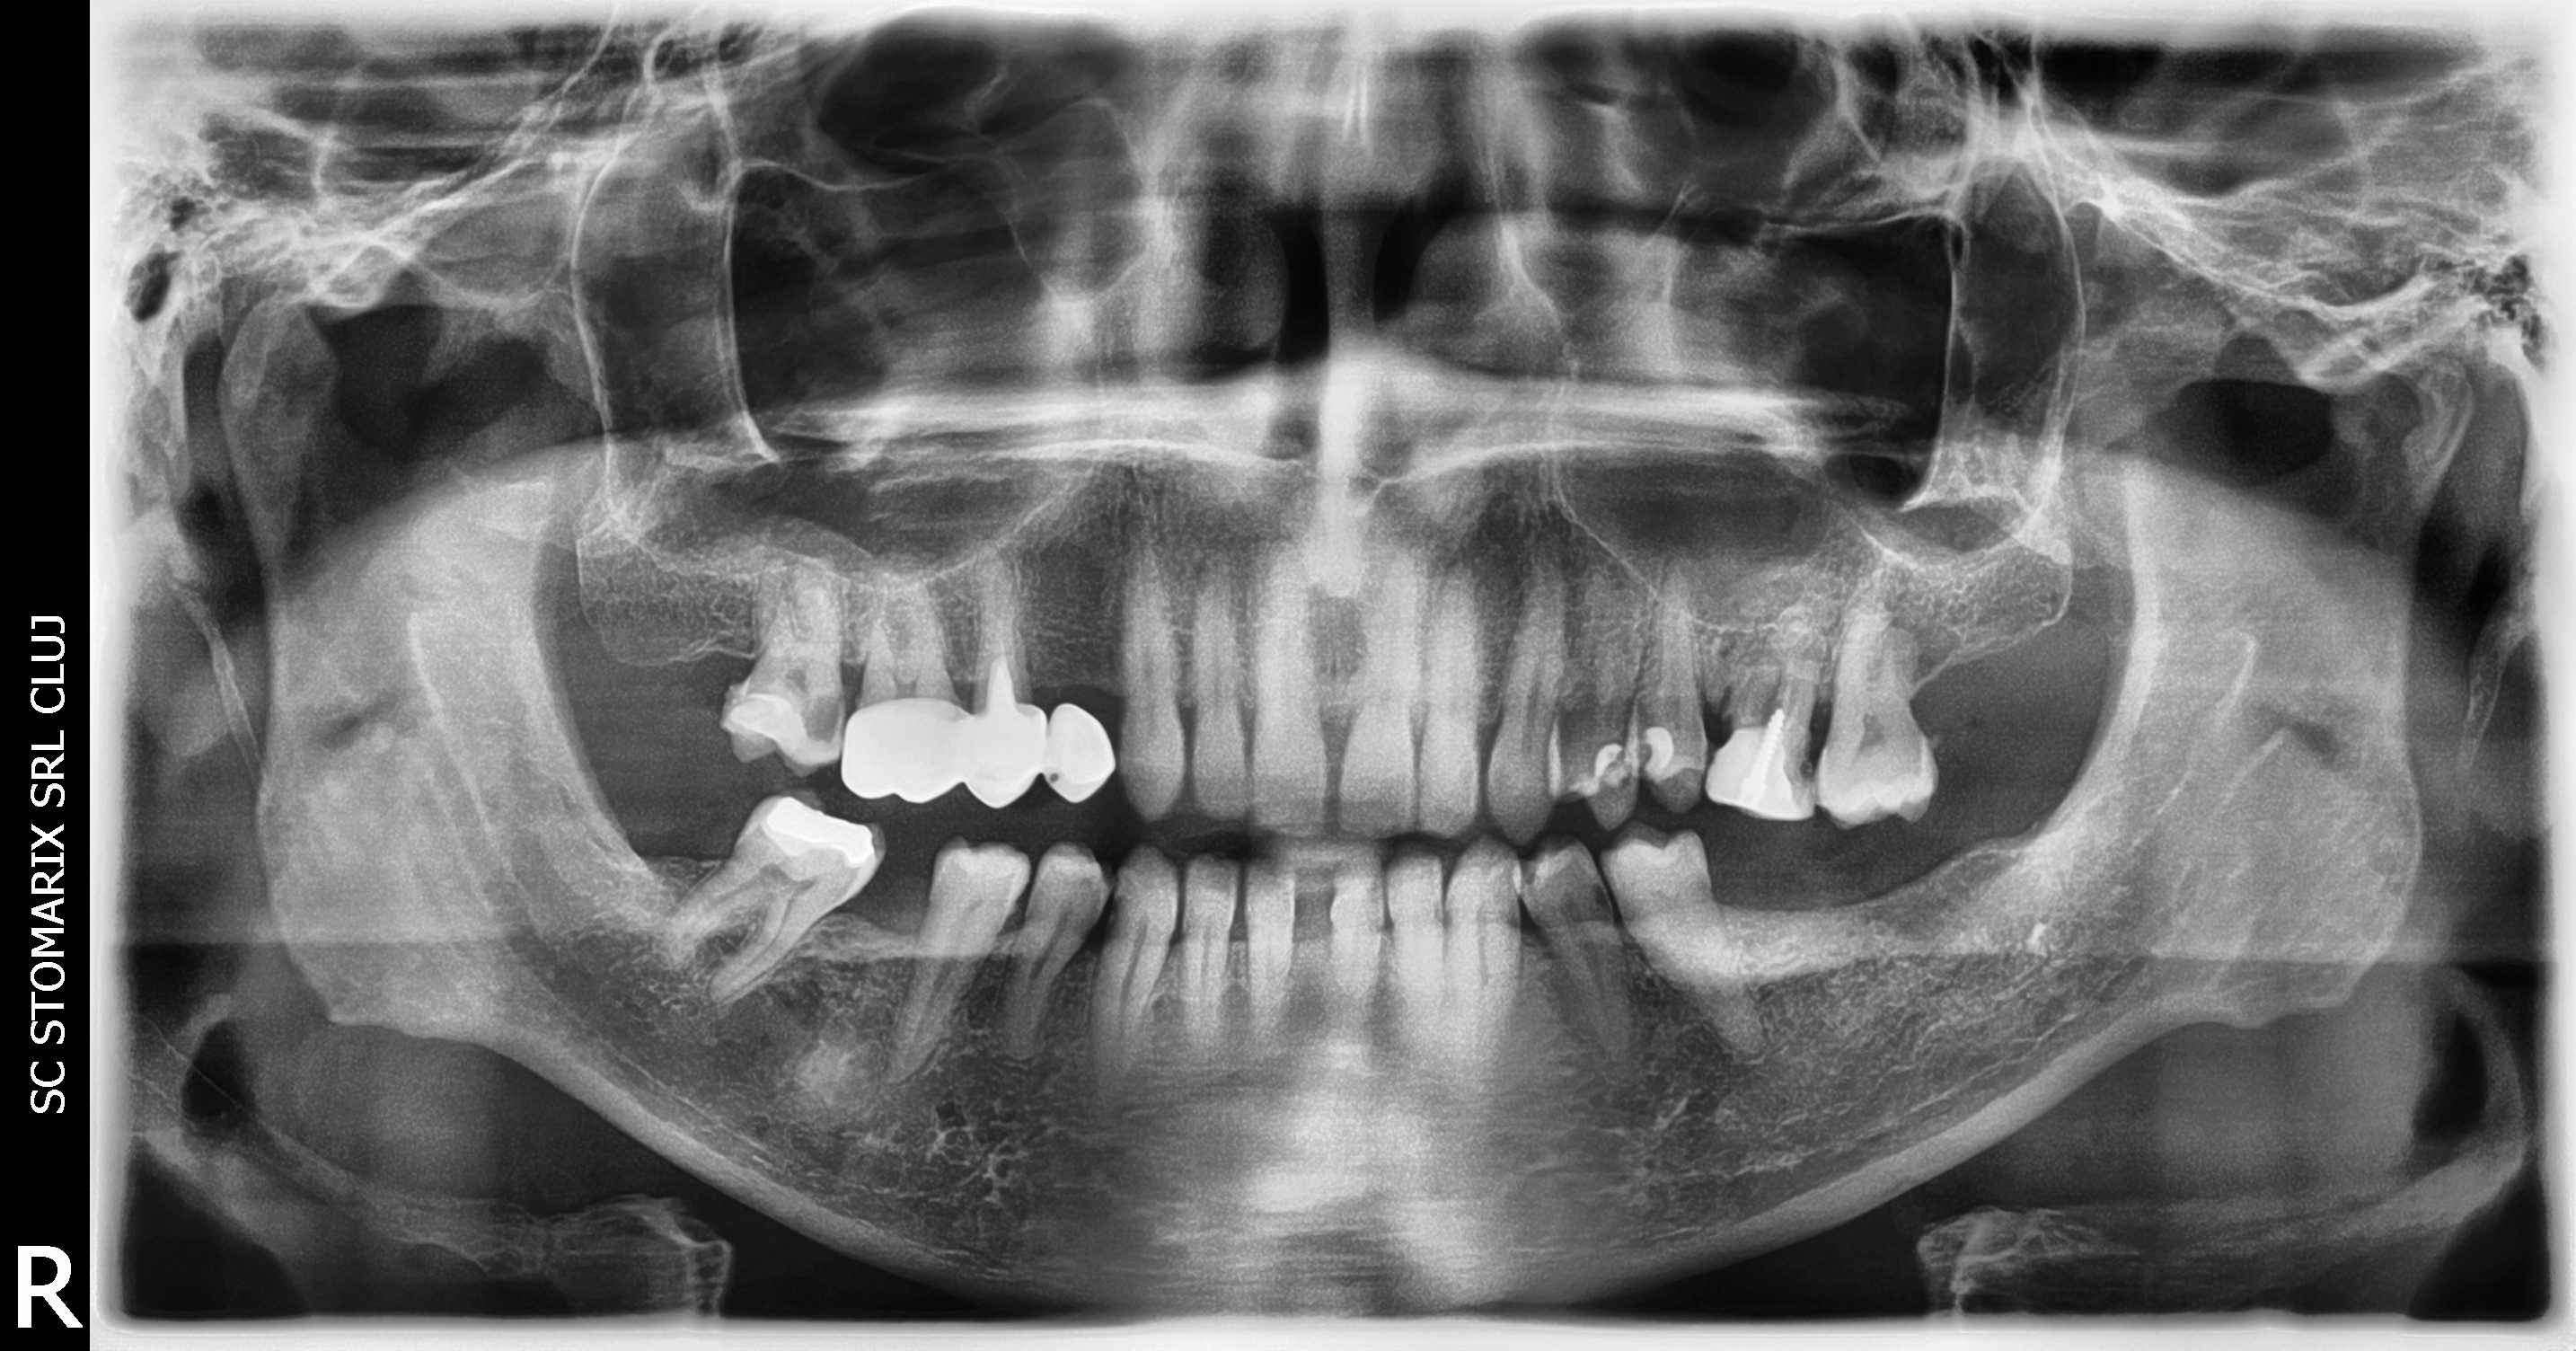BON: (1791, 642, 1864, 736)
CAR: (784, 671, 852, 768), (1690, 692, 1762, 756), (1569, 872, 1625, 927), (1780, 736, 1826, 801)
OBT: (705, 680, 847, 784), (750, 787, 903, 879), (1705, 722, 1806, 842), (1576, 731, 1641, 809), (1615, 717, 1676, 790)
PRR: (804, 671, 1140, 823)
